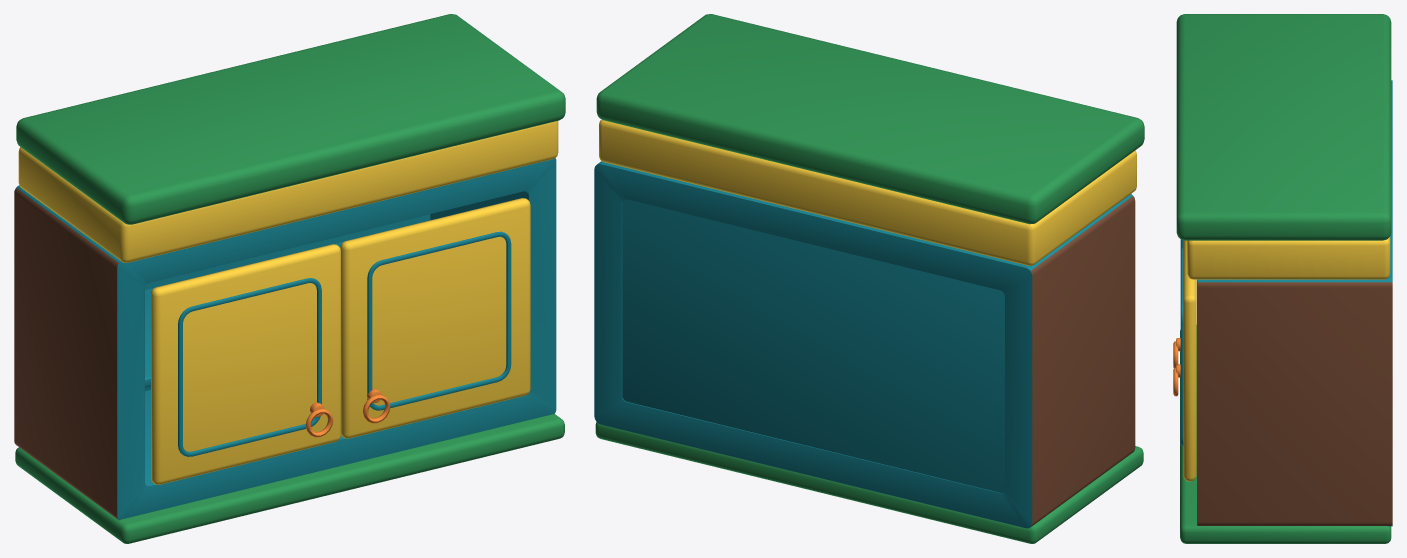
File: armario_parede_2portas_colonial_mata.glb
3 renders of one model, left to right at view 1: azimuth 30°, elevation 25°; view 2: azimuth 150°, elevation 25°; view 3: azimuth 270°, elevation 25°, orthographic. The views are drawn at different scales.
Parts seen in each view (by area): view 1: armario_parede_2portas_colonial_mata, porta_1, porta_2; view 2: armario_parede_2portas_colonial_mata; view 3: armario_parede_2portas_colonial_mata, porta_2.
Boxes of the visible parts, x1,y1,x2,y2 form: armario_parede_2portas_colonial_mata: (14, 14, 565, 543); porta_1: (151, 244, 340, 484); porta_2: (340, 198, 530, 438); armario_parede_2portas_colonial_mata: (594, 14, 1144, 543); armario_parede_2portas_colonial_mata: (1176, 14, 1392, 543); porta_2: (1173, 240, 1196, 481).
Size of the model in its own units: 0.798 by 0.6 by 0.3612.
1 material, 1 textured.
